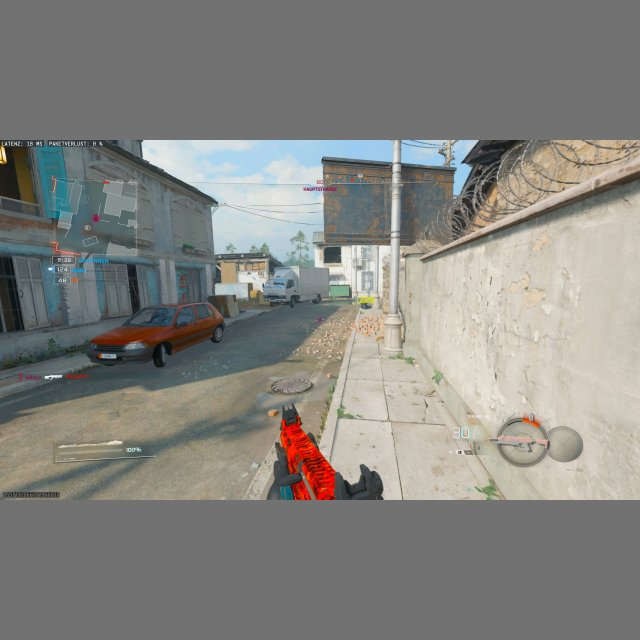player: (312, 293, 322, 304)
